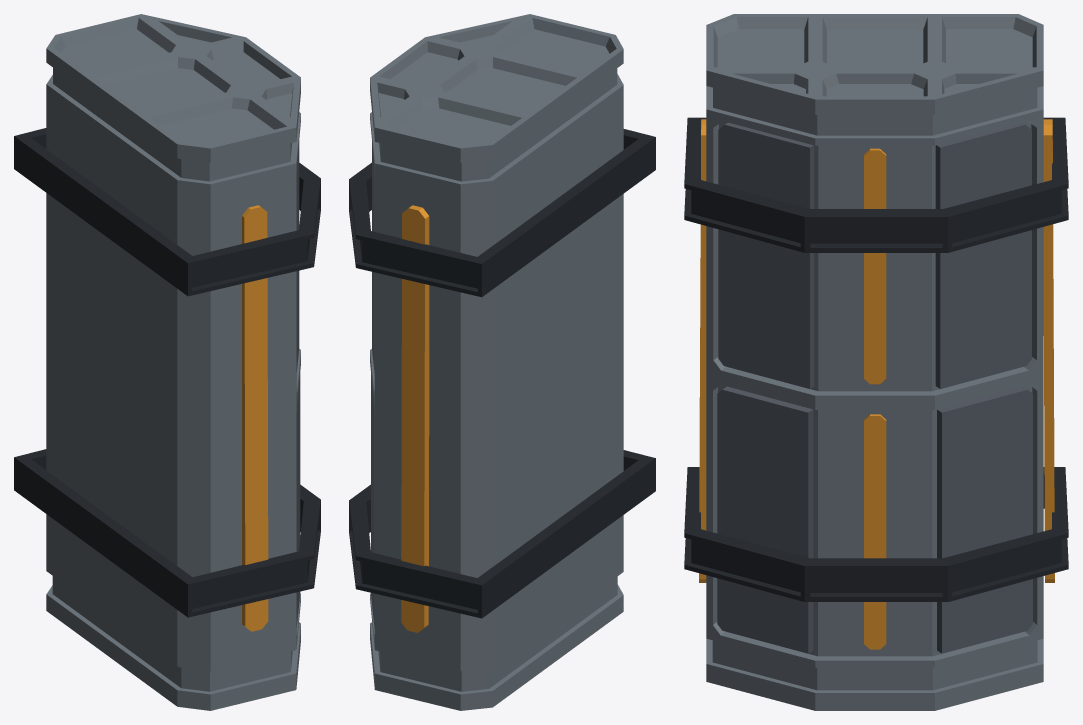
The model's file is SM_Roof_ventilation_dead-end.glb.
3 renders of one model, left to right at view 1: azimuth 30°, elevation 25°; view 2: azimuth 150°, elevation 25°; view 3: azimuth 270°, elevation 25°, orthographic. The views are drawn at different scales.
Parts seen in each view (by area): view 1: SM_Roof_ventilation_dead-end; view 2: SM_Roof_ventilation_dead-end; view 3: SM_Roof_ventilation_dead-end.
Part boxes in pixels (x1,y1,x2,y2): SM_Roof_ventilation_dead-end: (14, 14, 320, 710); SM_Roof_ventilation_dead-end: (349, 14, 655, 710); SM_Roof_ventilation_dead-end: (684, 14, 1068, 710).
Size of the model in its own units: 0.3475 by 1 by 0.5698.
1 material, 1 textured.
